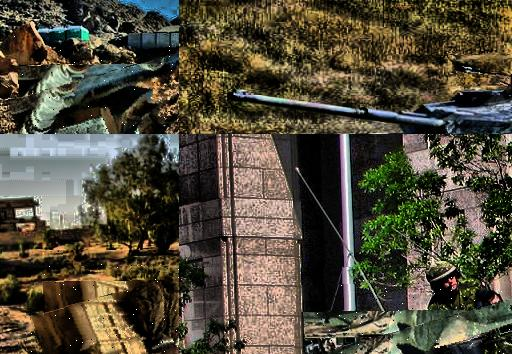tanks: (9, 55, 180, 135), (230, 89, 512, 135), (33, 277, 180, 354), (319, 300, 512, 354), (451, 61, 512, 81)
